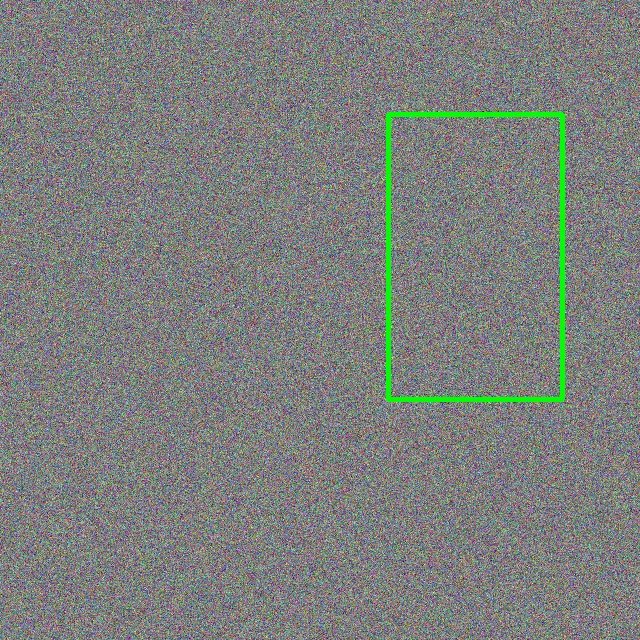base: (388, 114, 562, 399)
